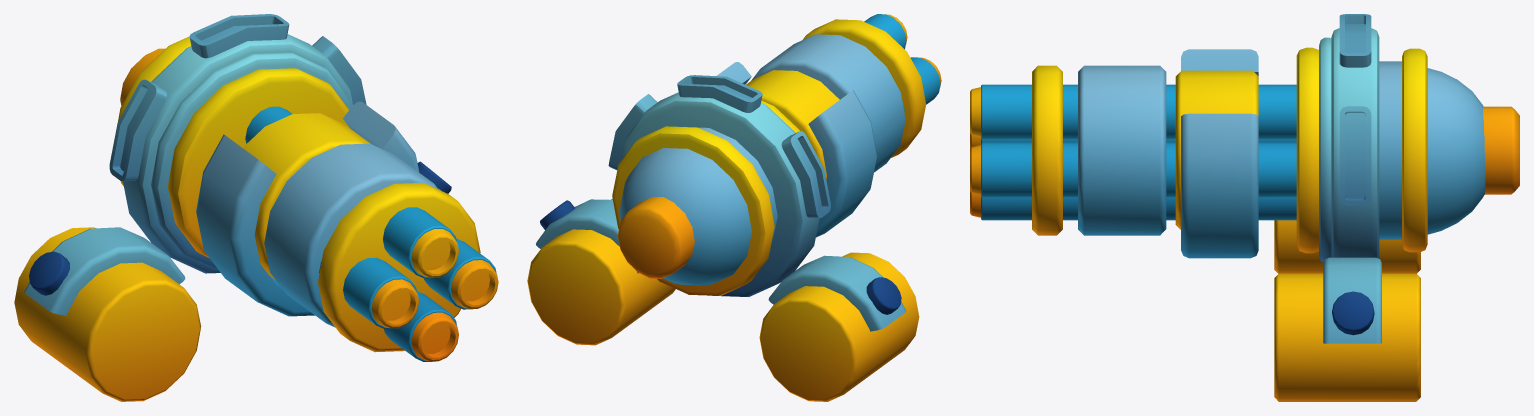
File: Machine_gun.fbx
The picture shows the model from 3 angles, left to right: view 1: azimuth 30°, elevation 25°; view 2: azimuth 150°, elevation 25°; view 3: azimuth 270°, elevation 25°; orthographic projection. The views are drawn at different scales.
Visible parts, largest first — view 1: Machine_gun; view 2: Machine_gun; view 3: Machine_gun.
Boxes of the visible parts, box(x1,y1,x2,y2) form: Machine_gun: box(14, 14, 498, 401); Machine_gun: box(527, 14, 941, 401); Machine_gun: box(970, 14, 1519, 401).
Bounding box in the file's own units: 98.68 × 71.96 × 117.
1 material, 1 textured.
